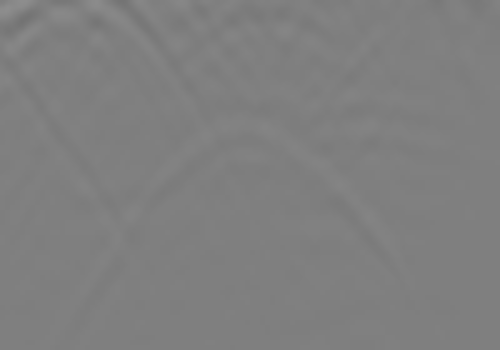hyperbola: (71, 120, 416, 321)
